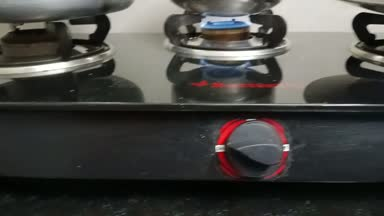flame_gas_on: (187, 9, 292, 178)
